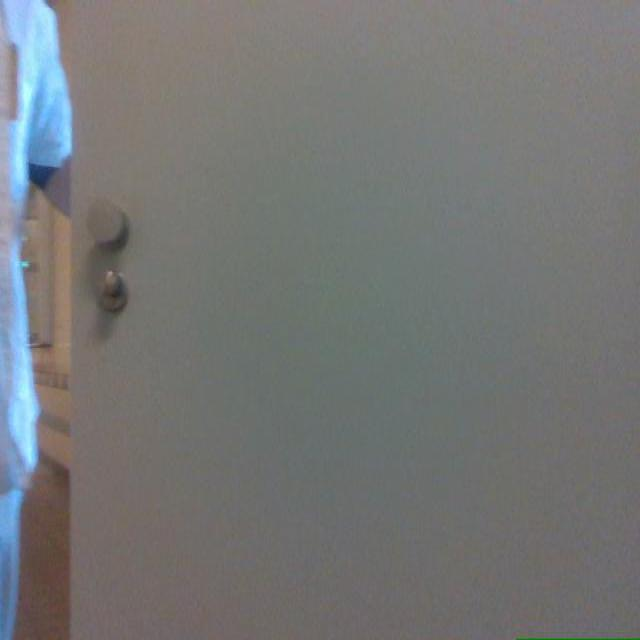humans: (0, 0, 71, 639)
objects: (70, 0, 639, 639)
